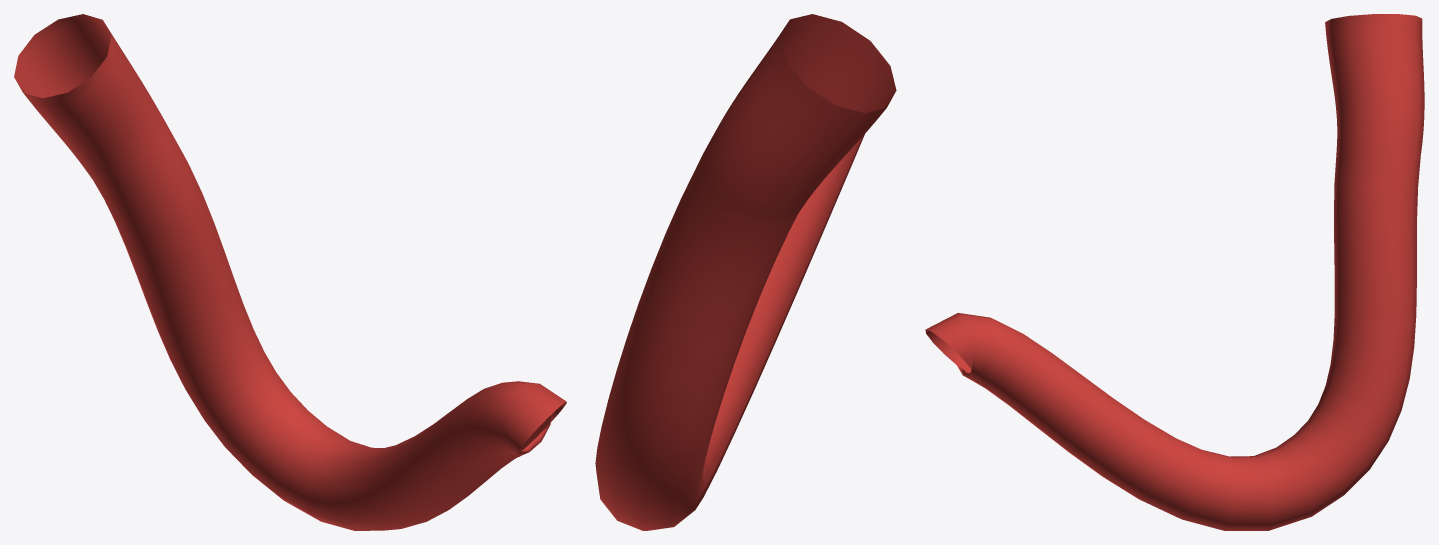
3 renders of one model, left to right at view 1: azimuth 30°, elevation 25°; view 2: azimuth 150°, elevation 25°; view 3: azimuth 270°, elevation 25°, orthographic. The views are drawn at different scales.
Visible parts, largest first — view 1: 右侧大脑前动脉; view 2: 右侧大脑前动脉; view 3: 右侧大脑前动脉.
Boxes of the visible parts, bbox=[...] form: 右侧大脑前动脉: bbox=[14, 14, 566, 530]; 右侧大脑前动脉: bbox=[595, 14, 896, 530]; 右侧大脑前动脉: bbox=[925, 14, 1424, 530].
Size of the model in its own units: 0.0144 by 0.0221 by 0.0227.
